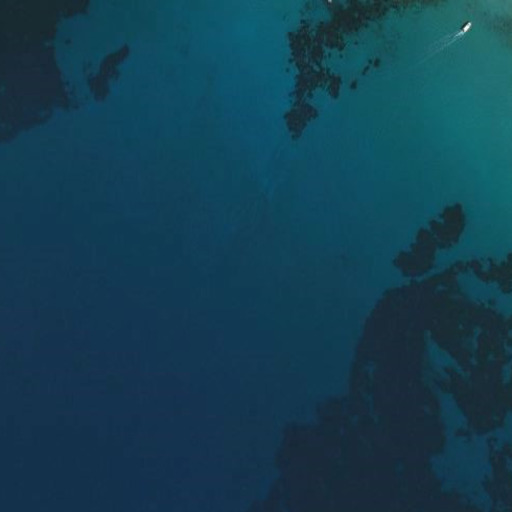ship: (460, 20, 472, 35)
